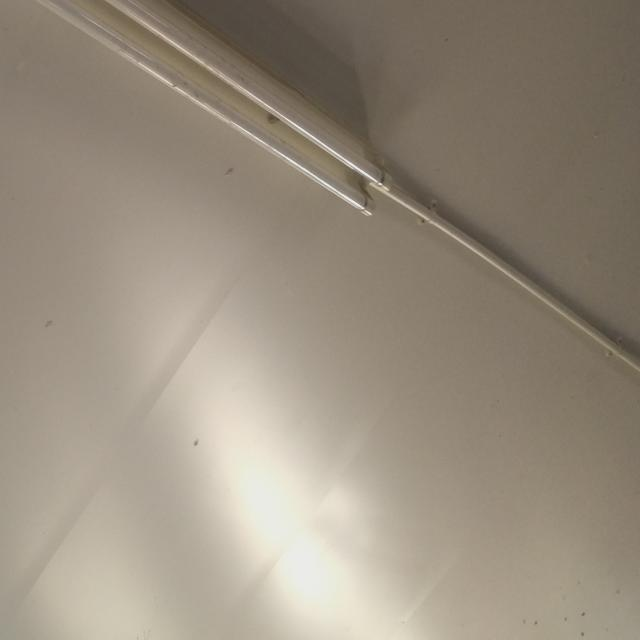fluorescent tube: (0, 0, 421, 263)
